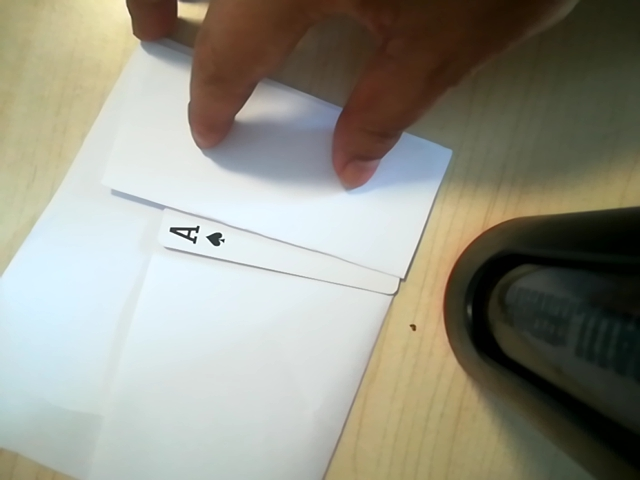ht a: (145, 197, 235, 257)
